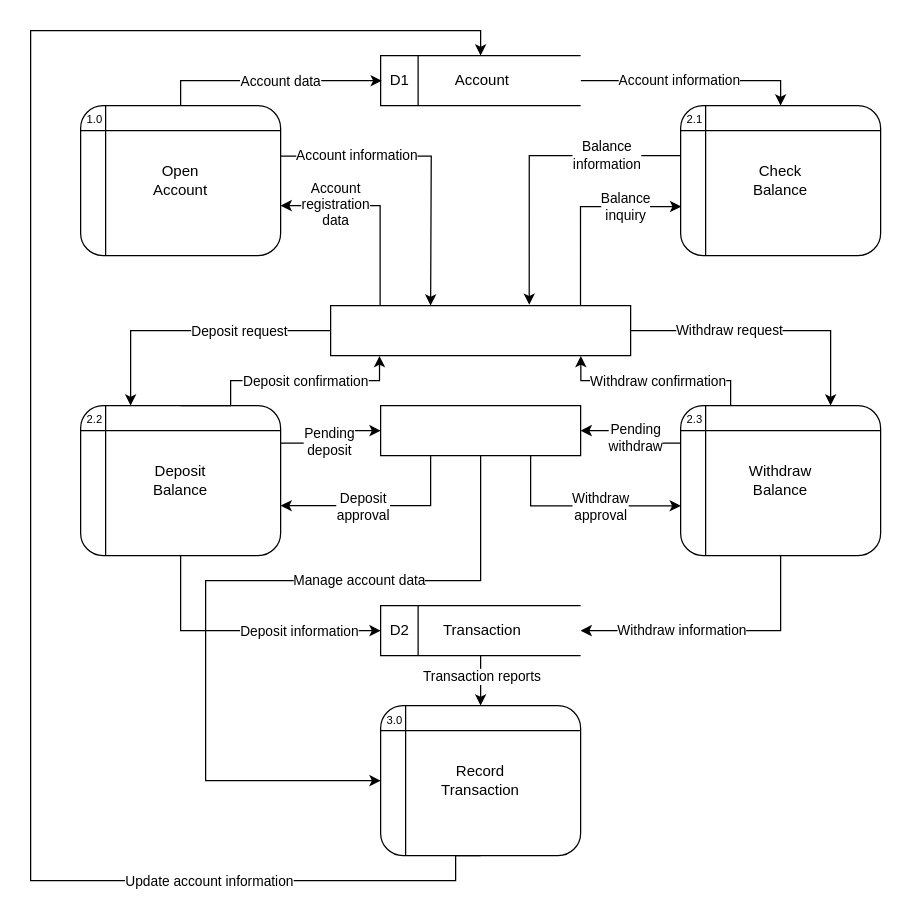
Image size: 903x913. Some labels were removed from this diagram. Here are the shapes that lost their labels. From the top down, the centre of each, then its label:
the point at 480,330: Customer
the point at 480,430: Bank Teller
